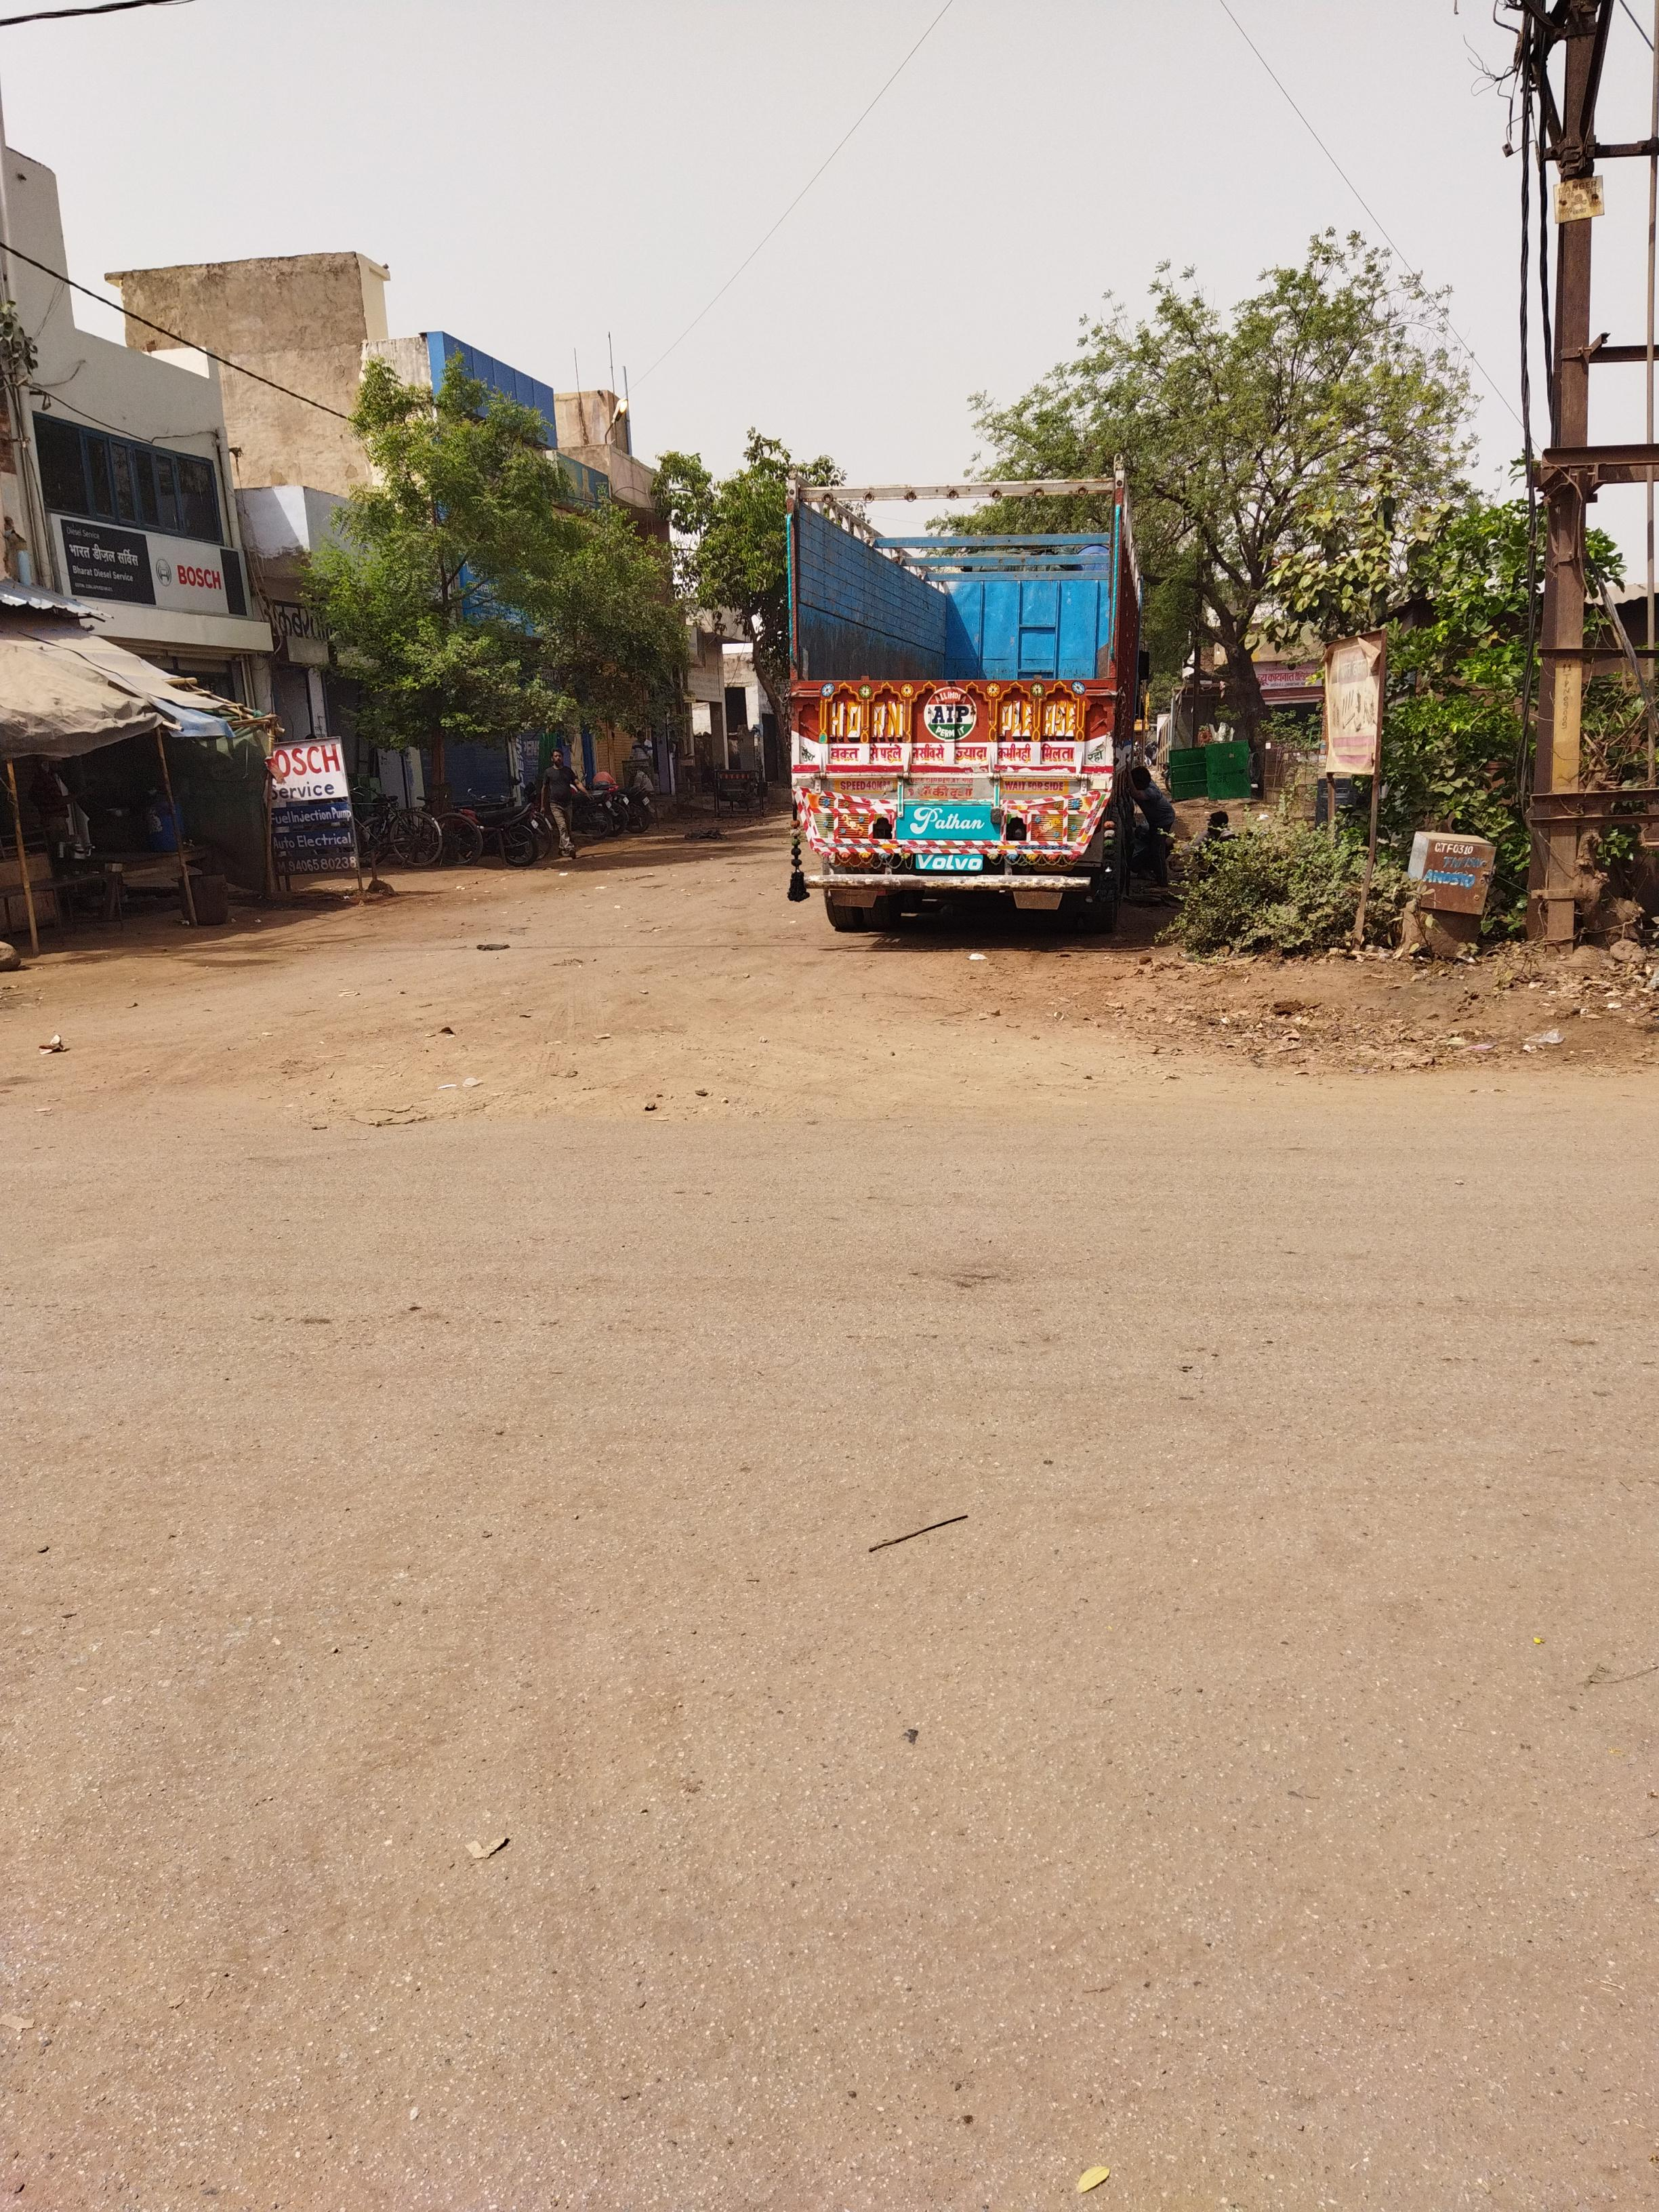Truck: (777, 500, 1169, 939)
